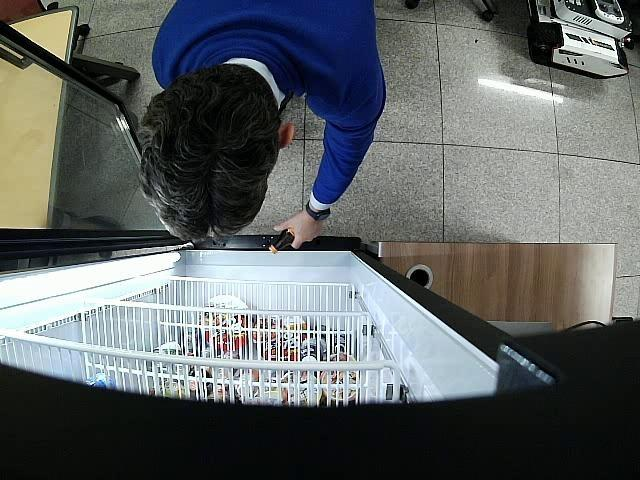17_vita500: (268, 228, 295, 254)
